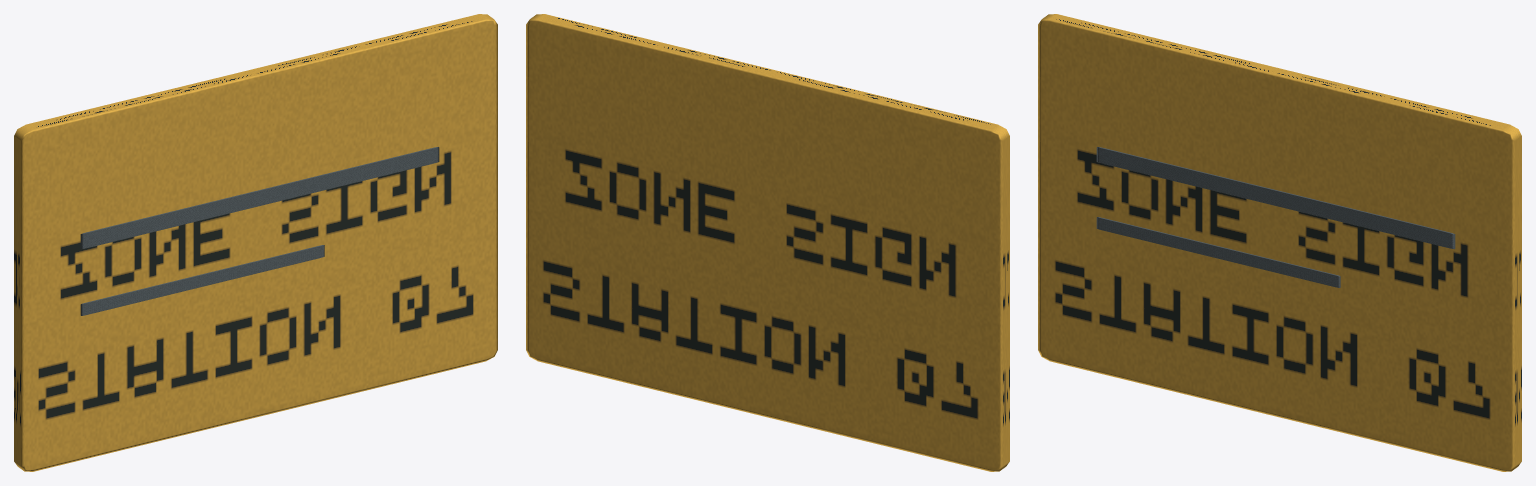
The model's file is zone-sign.glb.
3 views of the same model, side by side, from view 1: azimuth 30°, elevation 25°; view 2: azimuth 150°, elevation 25°; view 3: azimuth 330°, elevation 25° (orthographic).
Visible parts, largest first — view 1: board, stripe, line; view 2: board; view 3: board, stripe, line.
Part boxes in pixels (x1,y1,x2,y2): board: [14, 14, 497, 471]; stripe: [80, 147, 439, 249]; line: [80, 245, 324, 315]; board: [526, 14, 1009, 471]; board: [1038, 14, 1521, 471]; stripe: [1096, 147, 1455, 249]; line: [1096, 217, 1340, 287].
Size of the model in its own units: 0.35 by 0.24 by 0.0102.
2 materials, 2 textured.
